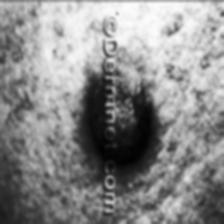Potentially Malignant Skin Tumors: (89, 56, 149, 176)
